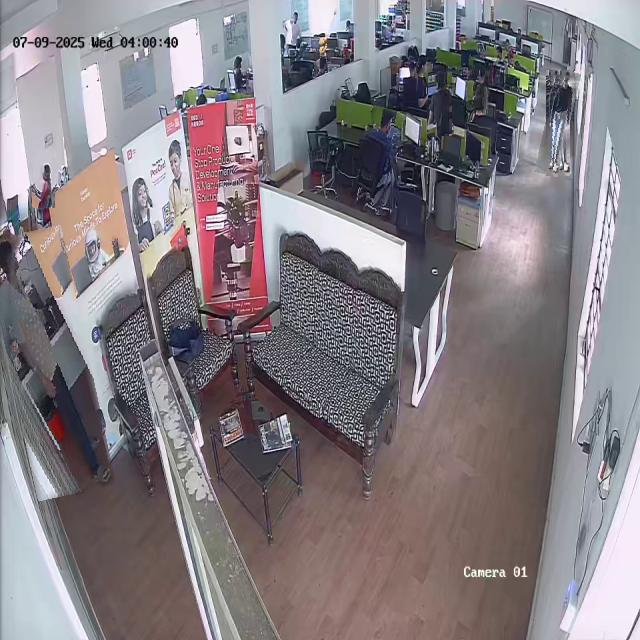person: (0, 227, 102, 498), (354, 106, 400, 214), (540, 70, 576, 176), (428, 72, 452, 136), (467, 66, 491, 128), (33, 157, 55, 208)
